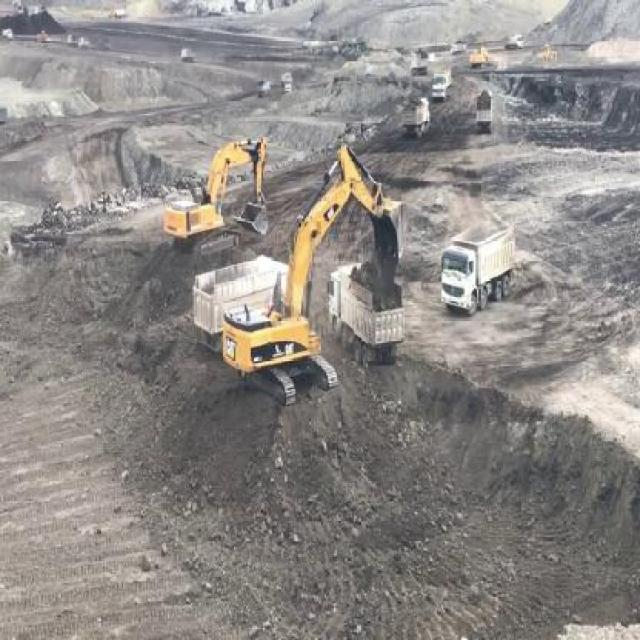dump_truck: (327, 260, 404, 366), (192, 255, 290, 330), (440, 221, 515, 316), (400, 97, 431, 138), (432, 66, 452, 102), (476, 91, 492, 132), (409, 53, 428, 75)
excavator: (220, 143, 409, 408), (163, 136, 269, 256)
